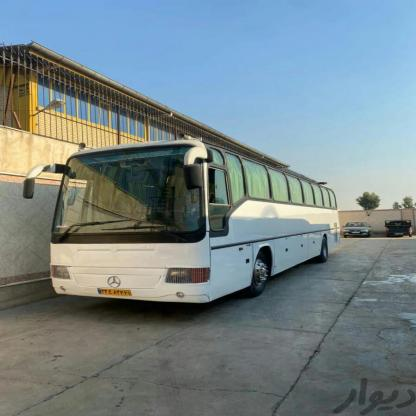Bus: (43, 142, 337, 306)
Car: (338, 222, 378, 239)
